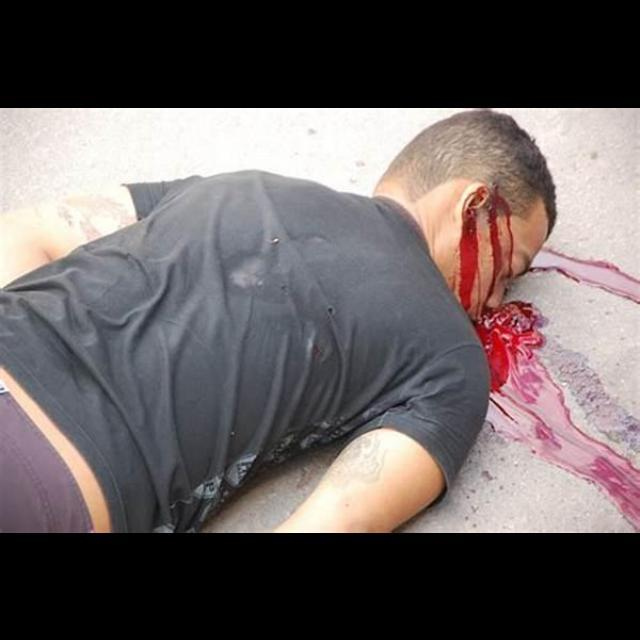blood: (447, 181, 640, 533), (531, 249, 640, 304)
